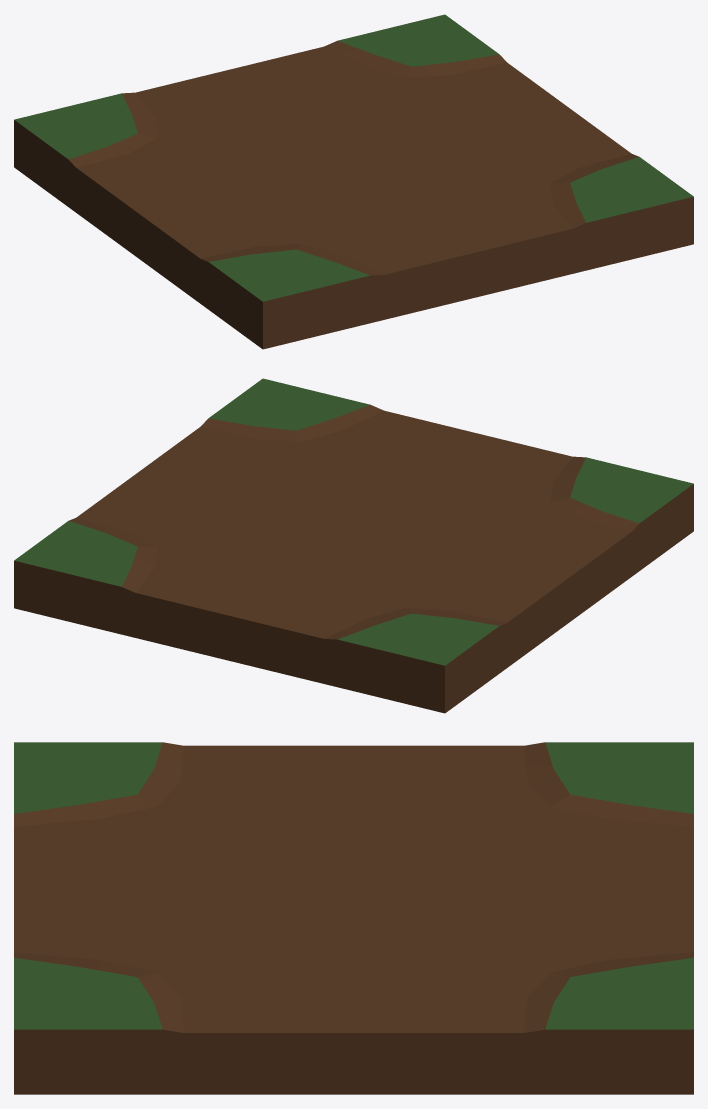
The model's file is Dirt Cross Section.fbx.
3 renders of one model, top to bottom at view 1: azimuth 30°, elevation 25°; view 2: azimuth 150°, elevation 25°; view 3: azimuth 270°, elevation 25°, orthographic. The views are drawn at different scales.
Visible parts, largest first — view 1: DirtCross; view 2: DirtCross; view 3: DirtCross.
Boxes of the visible parts, bbox=[...] form: DirtCross: bbox=[14, 14, 693, 349]; DirtCross: bbox=[14, 378, 693, 713]; DirtCross: bbox=[14, 742, 693, 1094].
Bounding box in the file's own units: 10 × 1.06 × 10.
